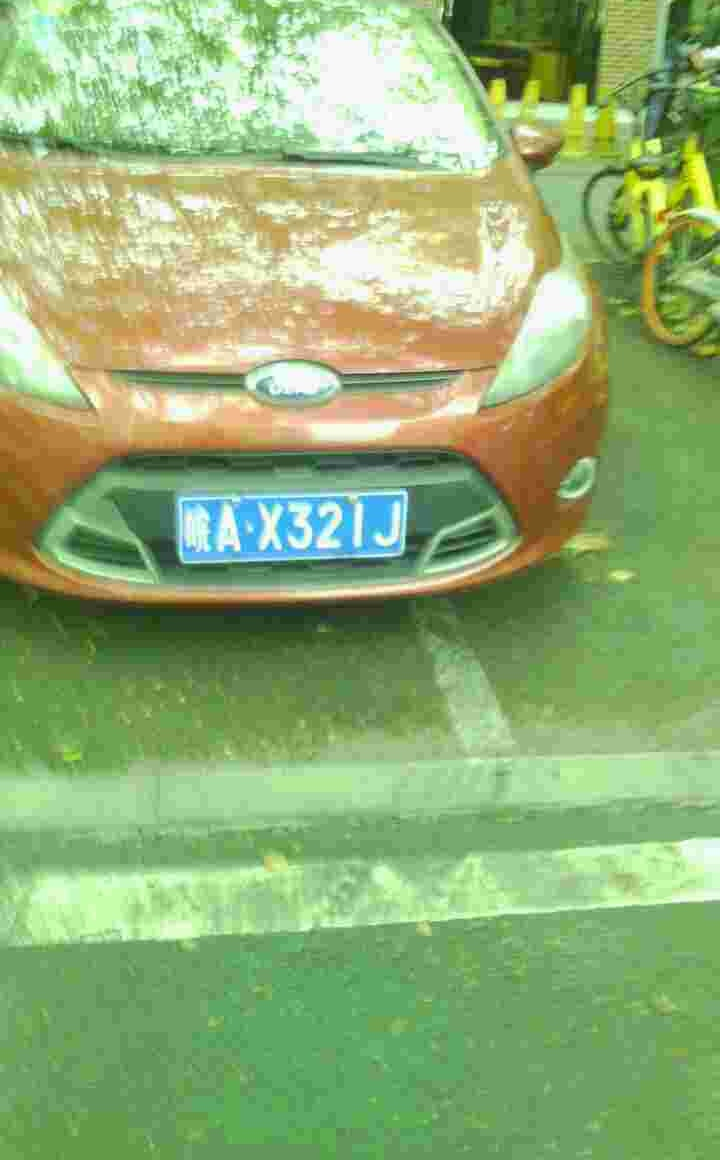license_plate: (183, 503, 410, 563)
